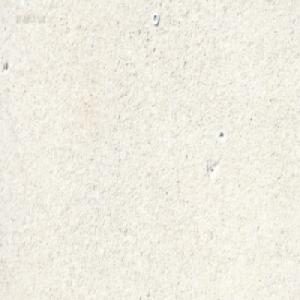Washer: (151, 12, 159, 26)
